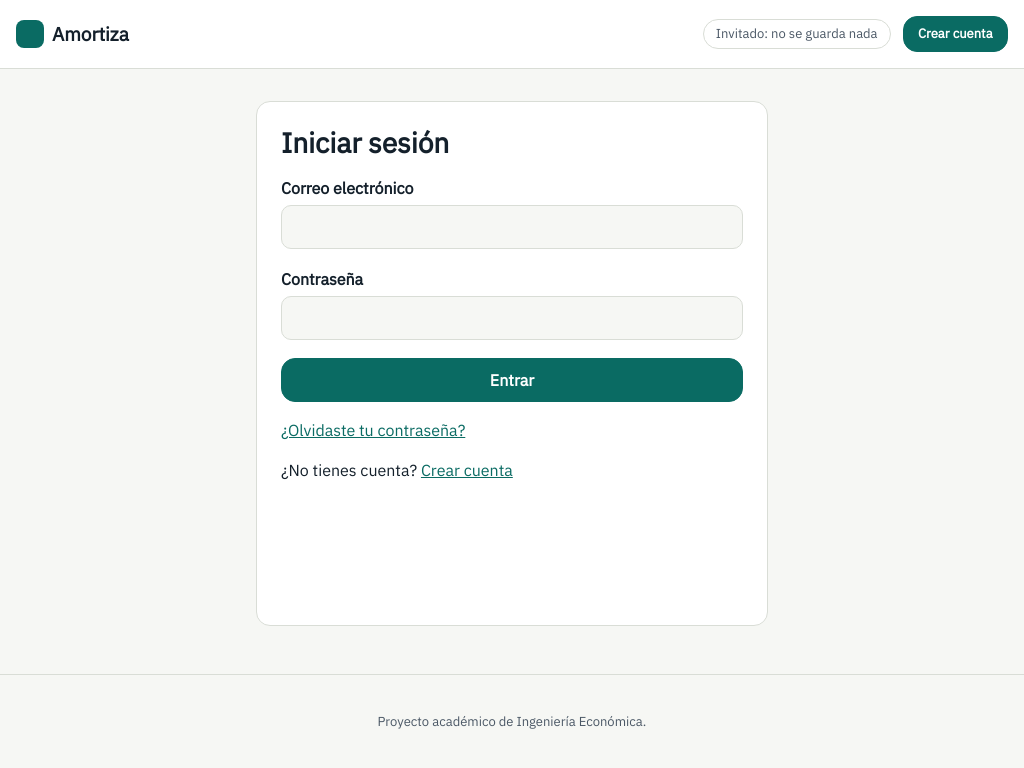
Test: HU-02: iniciar y cerrar sesión › al entrar, la cabecera muestra al usuario y oculta "Invitado", "Iniciar sesión" y "Crear cuenta"
Type "ana@correo.co" into the field labelled "Correo electrónico" at [512, 227], box [281, 205, 743, 249]
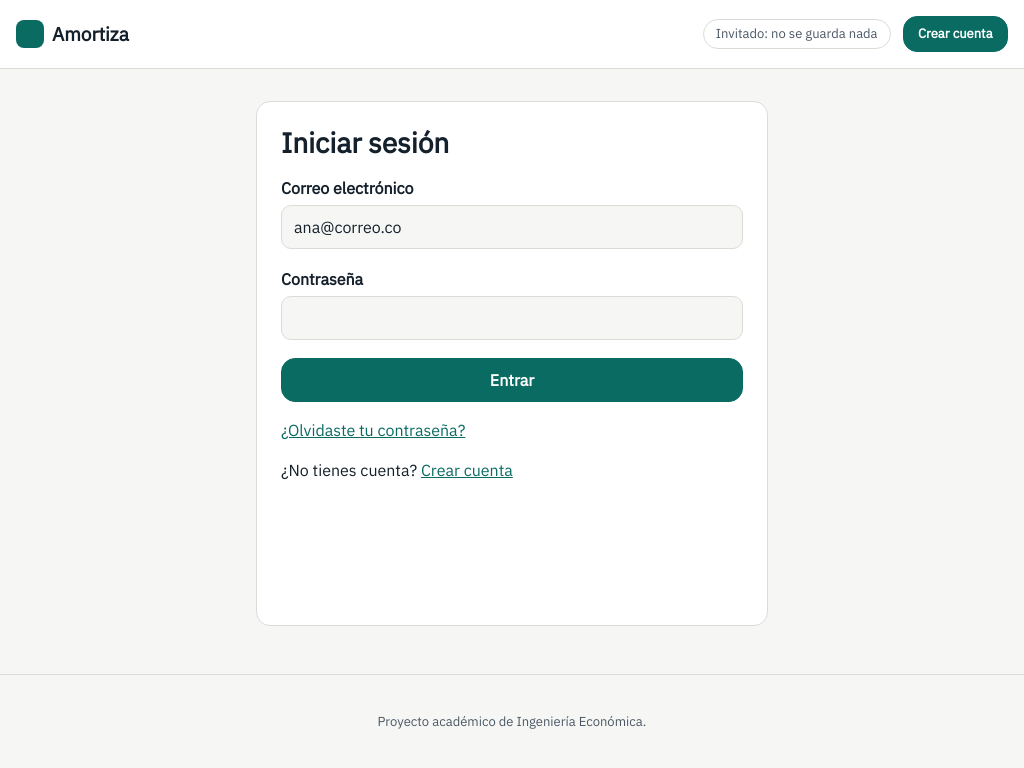
Type "una frase larga" into the password field labelled "Contraseña" at [512, 318], box [281, 296, 743, 340]
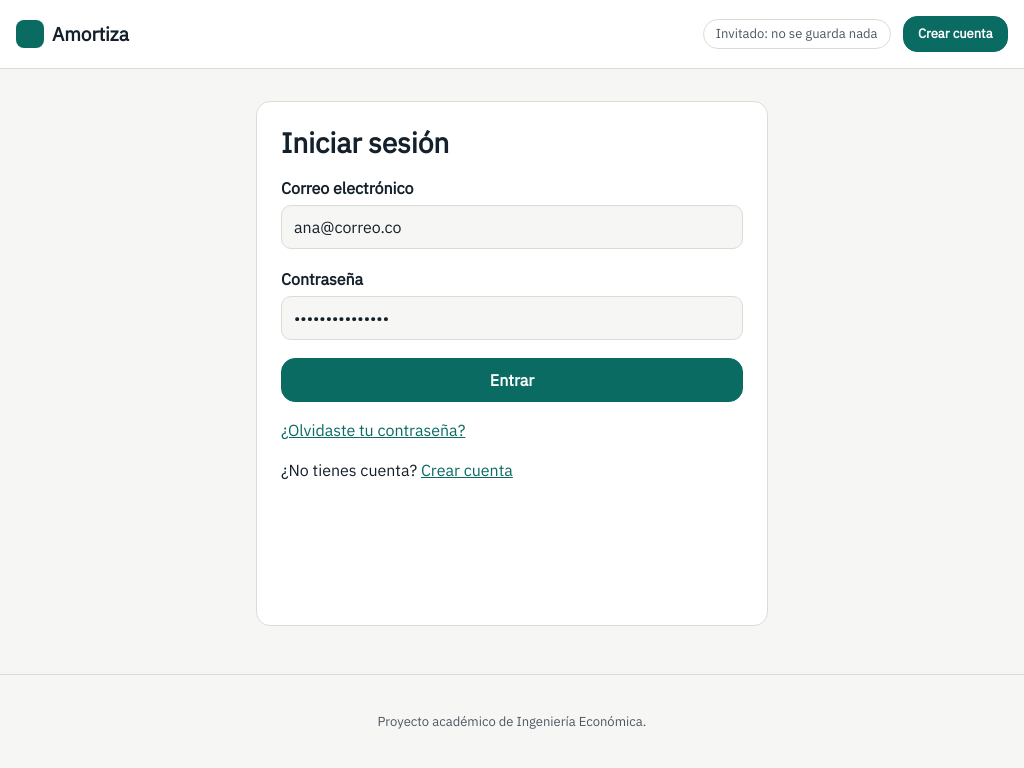
Click the button "Entrar" at [512, 380], box [281, 358, 743, 402]
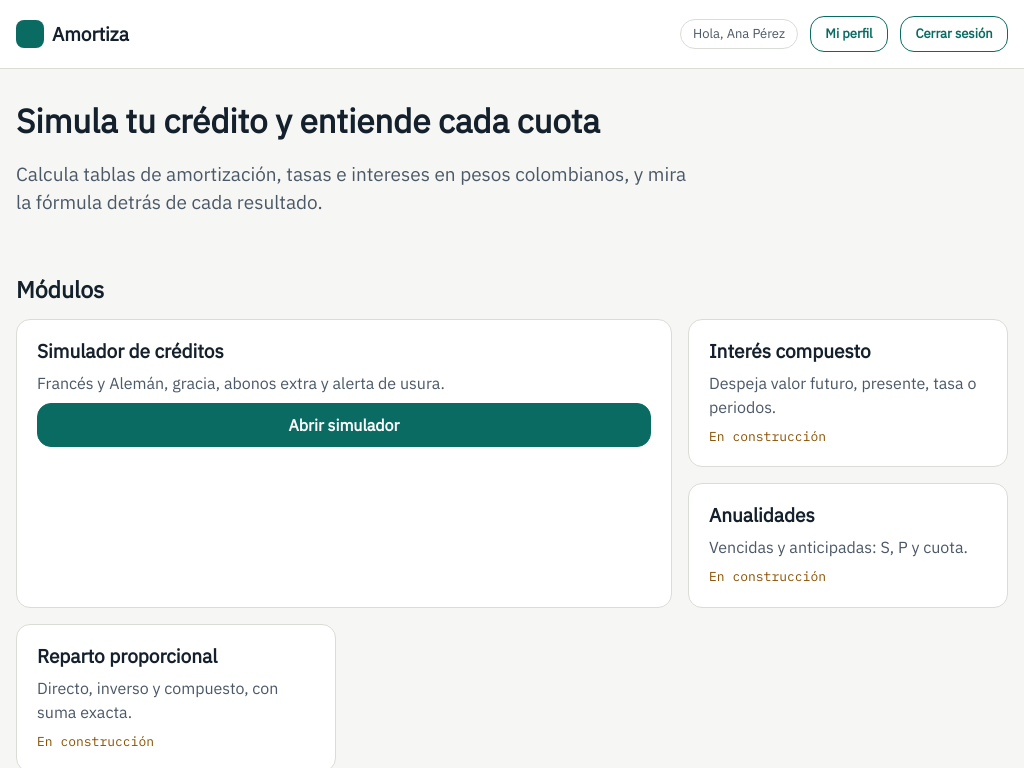
Now the text "Hola, Ana Pérez" is shown, box [680, 19, 798, 49]
Now the text "Invitado: no se guarda nada" is gone
Now the link "Crear cuenta" is gone
